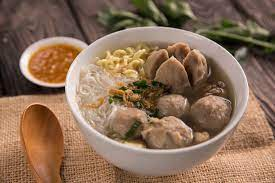bakso: (105, 46, 245, 153)
